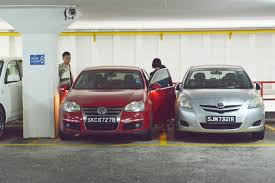car: (60, 66, 153, 141), (173, 64, 265, 138), (1, 55, 23, 137)
